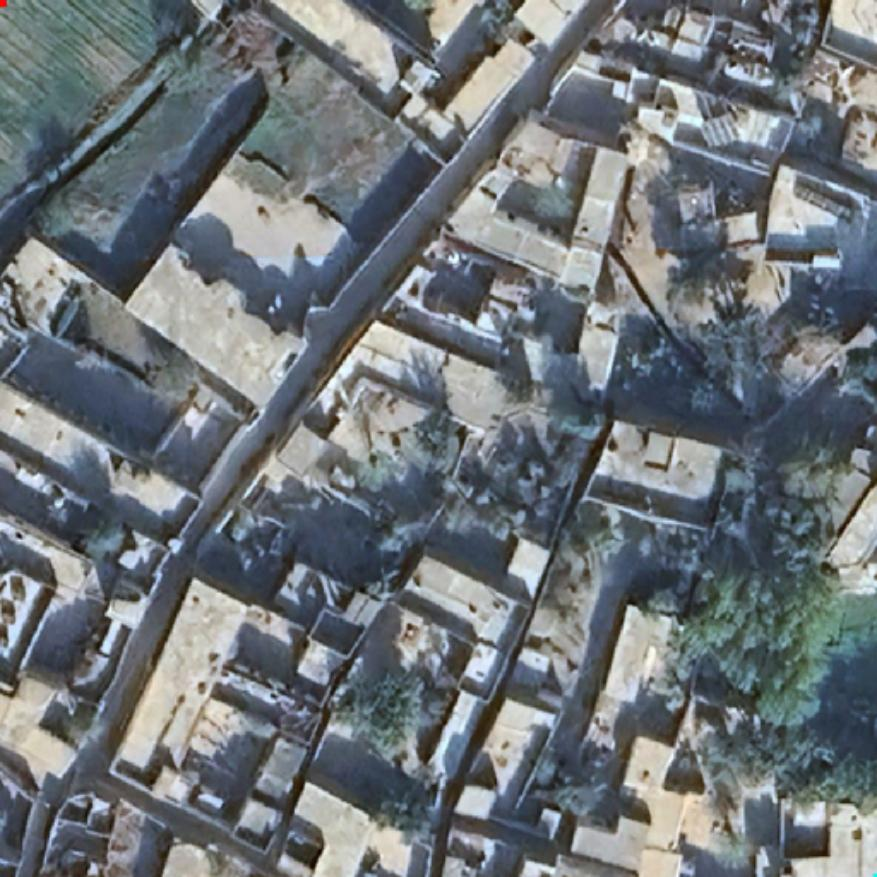Solarpanel: (787, 177, 857, 223), (697, 108, 744, 150)
